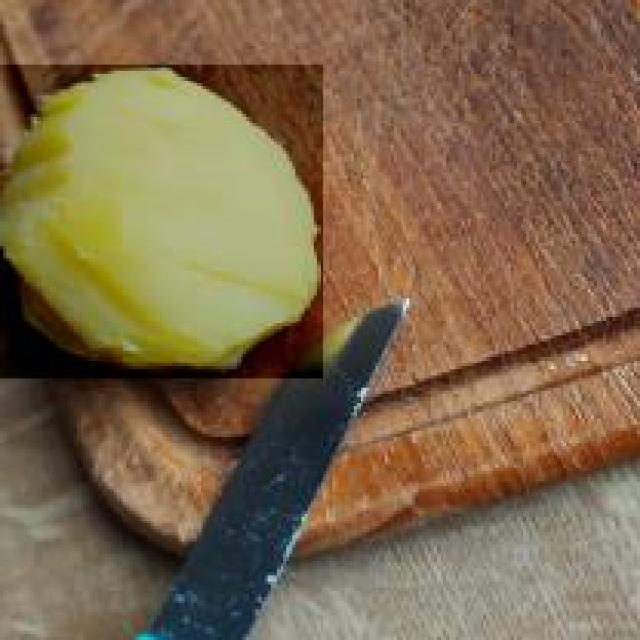butter: (0, 65, 326, 382)
